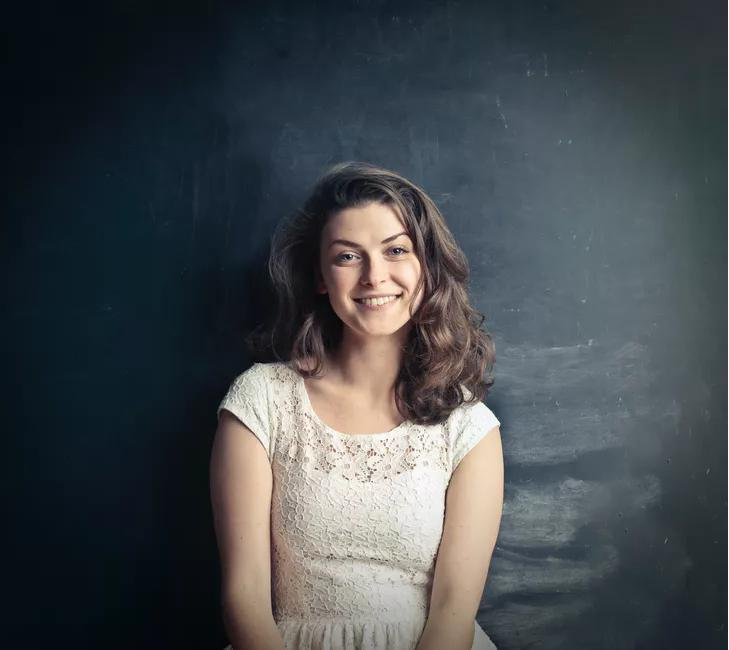face: (321, 203, 423, 335)
